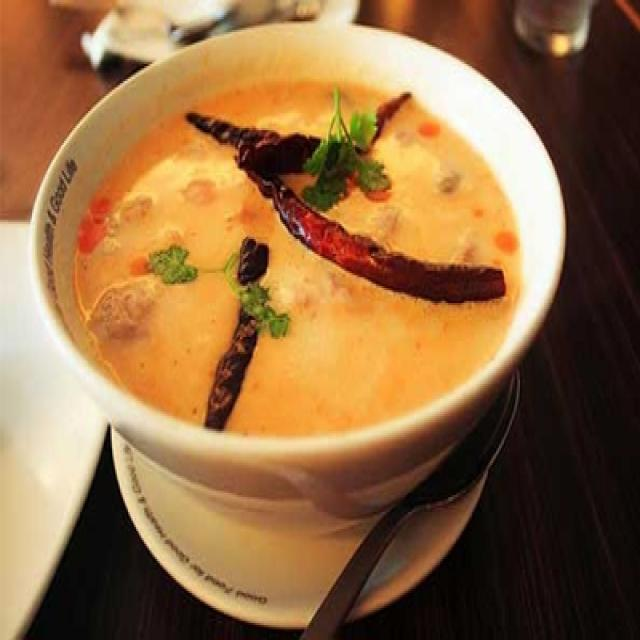汤锅炖物: (40, 32, 573, 493)
